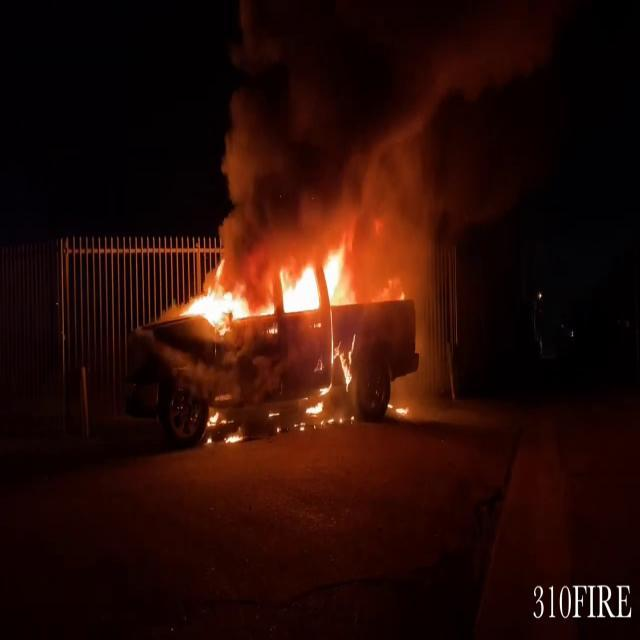Fire: (184, 245, 356, 335), (205, 403, 245, 446)
Smoke: (215, 0, 561, 270)
